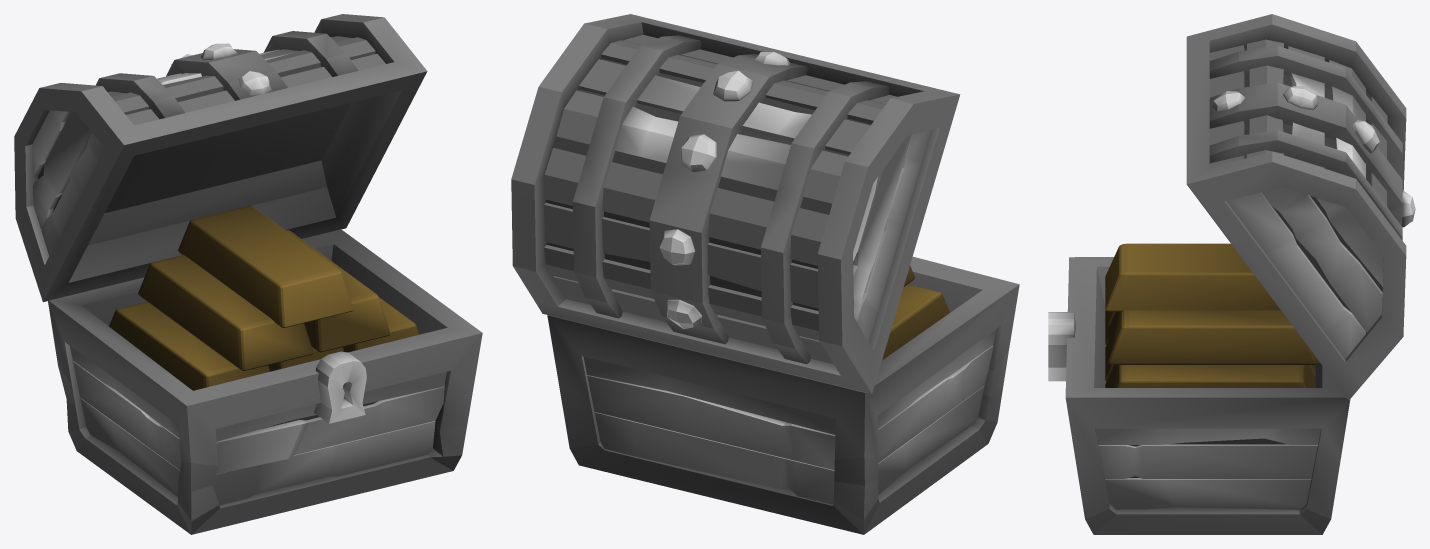
The model's file is pq_coffre_lingots.glb.
The picture shows the model from 3 angles, left to right: view 1: azimuth 30°, elevation 25°; view 2: azimuth 150°, elevation 25°; view 3: azimuth 270°, elevation 25°; orthographic projection. The views are drawn at different scales.
Visible parts, largest first — view 1: Chest_Ingots; view 2: Chest_Ingots; view 3: Chest_Ingots.
Boxes of the visible parts, bbox=[...] form: Chest_Ingots: bbox=[14, 14, 482, 534]; Chest_Ingots: bbox=[511, 14, 1019, 534]; Chest_Ingots: bbox=[1048, 14, 1415, 534].
Bounding box in the file's own units: 0.6207 × 0.75 × 0.6512.
